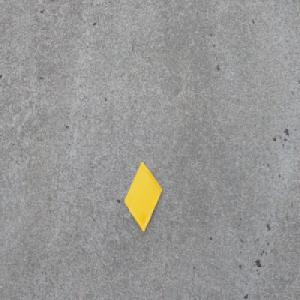PlasticPart: (123, 159, 163, 233)
